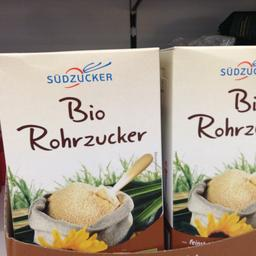sugar: (0, 47, 160, 254), (160, 44, 255, 244)
